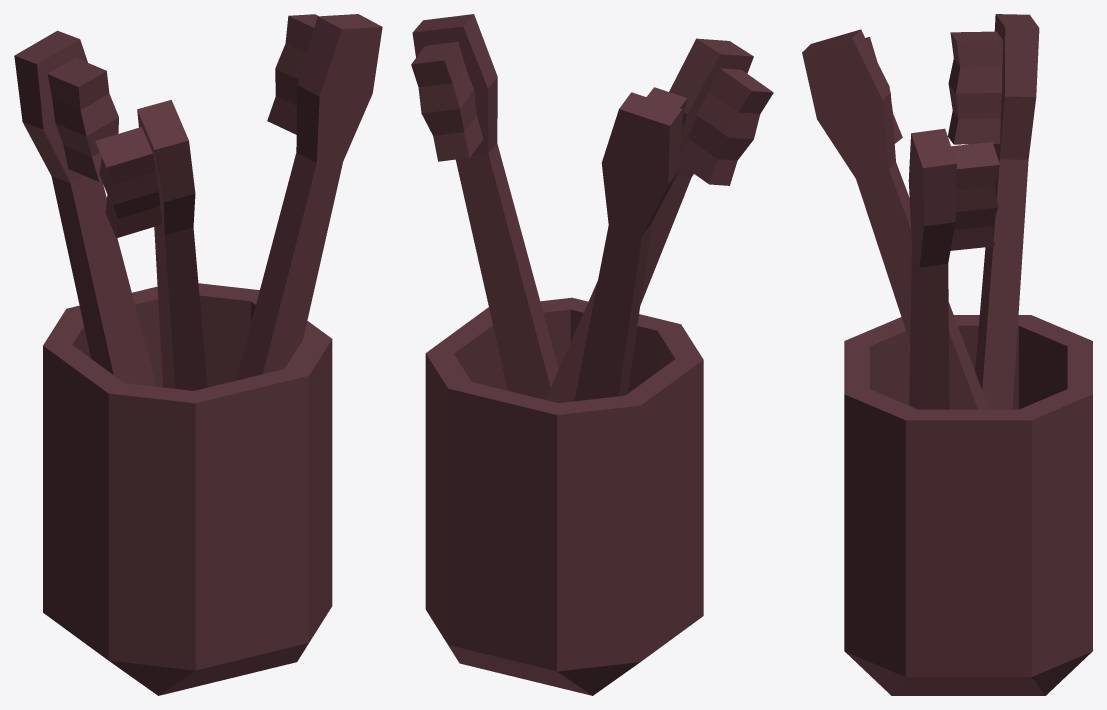
File: toothbrush-holder.fbx
3 views of the same model, side by side, from view 1: azimuth 30°, elevation 25°; view 2: azimuth 150°, elevation 25°; view 3: azimuth 270°, elevation 25° (orthographic). The views are drawn at different scales.
Parts seen in each view (by area): view 1: toothbrush-holder; view 2: toothbrush-holder; view 3: toothbrush-holder.
Boxes of the visible parts, x1,y1,x2,y2 form: toothbrush-holder: [14, 14, 382, 695]; toothbrush-holder: [411, 14, 773, 695]; toothbrush-holder: [802, 14, 1092, 695].
Size of the model in its own units: 0.1289 by 0.2375 by 0.1053.
